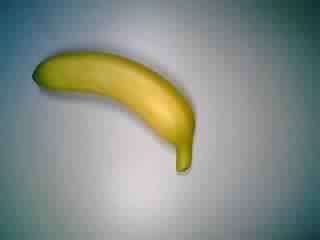banana: (29, 48, 203, 176)
